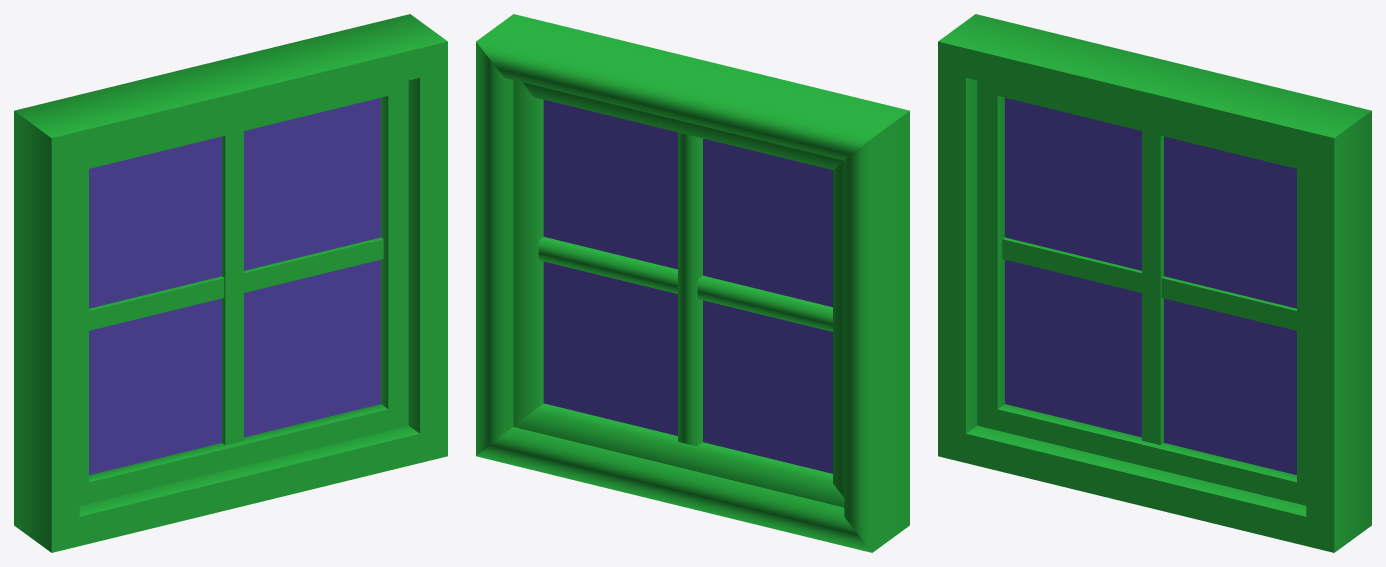
File: G_Window_005_S1.FBX
3 renders of one model, left to right at view 1: azimuth 30°, elevation 25°; view 2: azimuth 150°, elevation 25°; view 3: azimuth 330°, elevation 25°, orthographic.
Parts seen in each view (by area): view 1: S_M_Ornament_Window005_2x1x2_LOD0; view 2: S_M_Ornament_Window005_2x1x2_LOD0; view 3: S_M_Ornament_Window005_2x1x2_LOD0.
Boxes of the visible parts, box(x1,y1,x2,y2) form: S_M_Ornament_Window005_2x1x2_LOD0: box(14, 14, 447, 552); S_M_Ornament_Window005_2x1x2_LOD0: box(476, 14, 909, 552); S_M_Ornament_Window005_2x1x2_LOD0: box(938, 14, 1371, 552).
Bounding box in the file's own units: 220 × 220 × 36.19.
